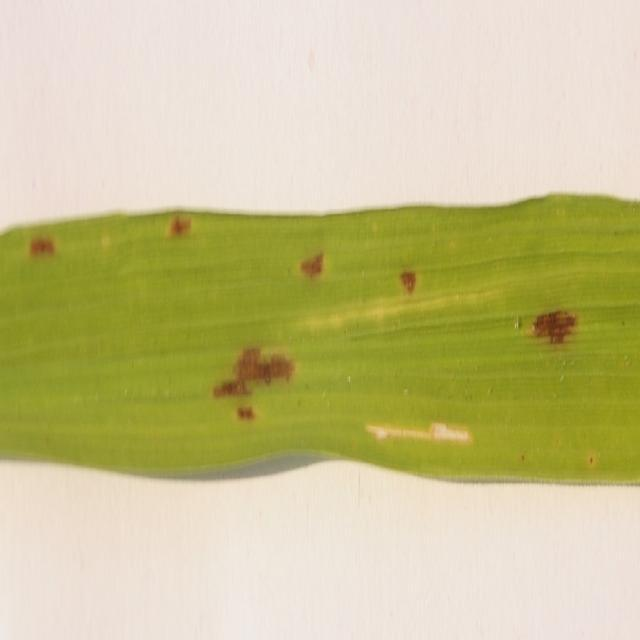Brownspot: (213, 347, 293, 396), (234, 348, 293, 383), (533, 310, 576, 343), (300, 253, 324, 278), (213, 380, 249, 396), (30, 237, 54, 255), (169, 216, 190, 236), (400, 271, 415, 293), (237, 406, 254, 419), (587, 453, 596, 466), (520, 453, 525, 462)
